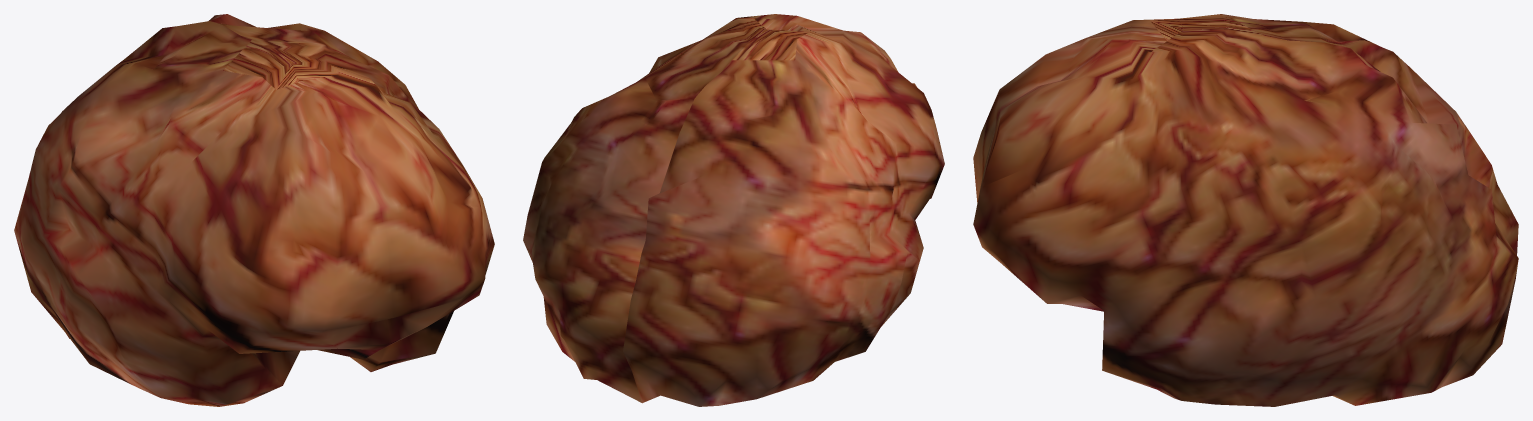
The model's file is gib_brain.fbx.
3 renders of one model, left to right at view 1: azimuth 30°, elevation 25°; view 2: azimuth 150°, elevation 25°; view 3: azimuth 270°, elevation 25°, orthographic. The views are drawn at different scales.
Visible parts, largest first — view 1: brain; view 2: brain; view 3: brain.
Boxes of the visible parts, <box> form: brain: <box>14,14,494,406</box>; brain: <box>523,14,944,406</box>; brain: <box>973,14,1518,406</box>.
Size of the model in its own units: 0.181 by 0.1485 by 0.2253.
